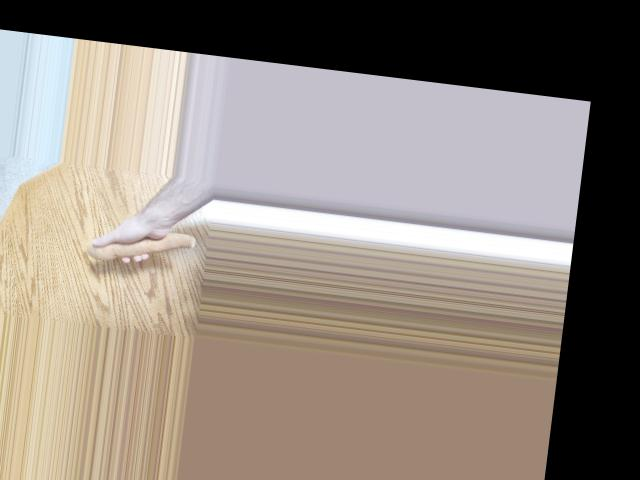sweet_potato: (86, 220, 197, 271)
